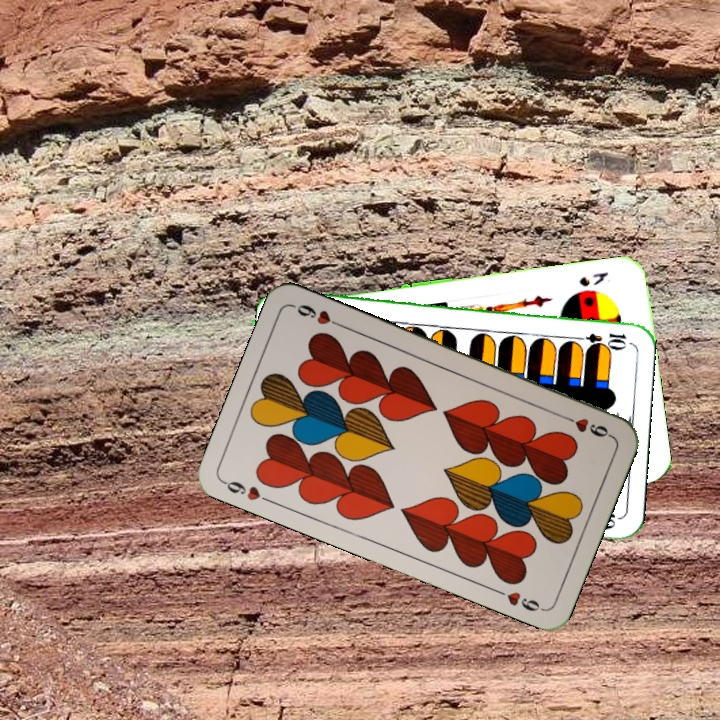E10: (570, 329, 628, 347)
H9: (558, 411, 614, 441), (219, 477, 275, 506)
SK: (575, 268, 611, 289)
